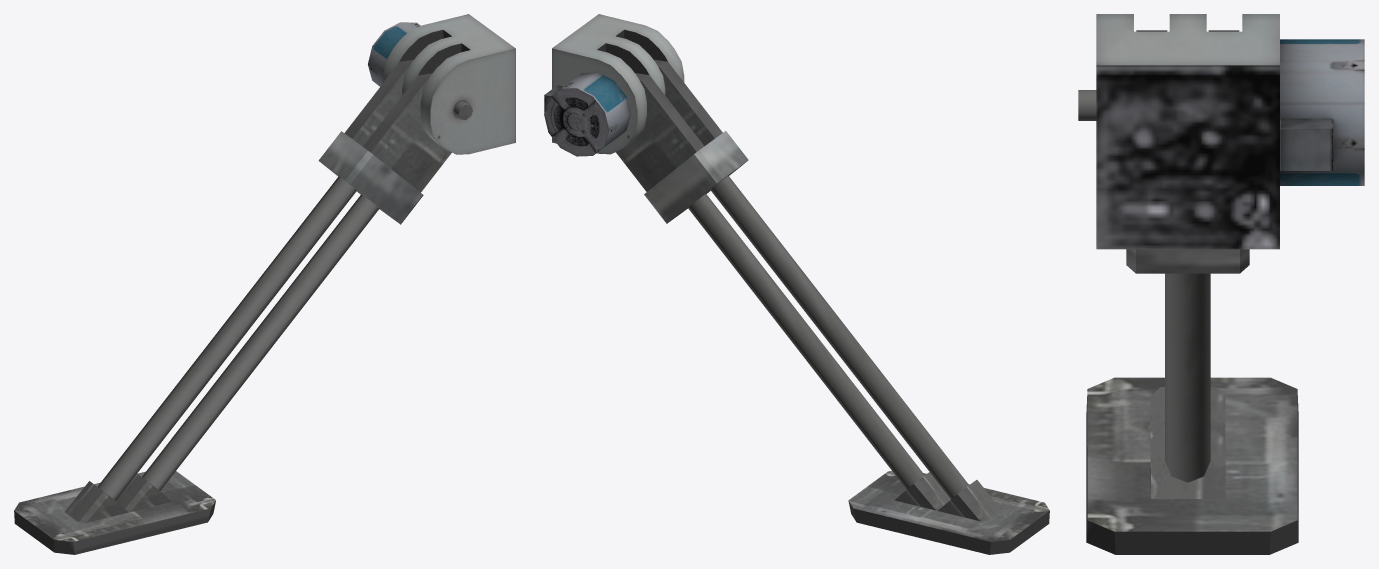
File: landingleg.DAE
3 views of the same model, side by side, from view 1: azimuth 30°, elevation 25°; view 2: azimuth 150°, elevation 25°; view 3: azimuth 270°, elevation 25° (orthographic). The views are drawn at different scales.
Parts seen in each view (by area): view 1: obj_leg-Pivot, obj_anchor-Pivot; view 2: obj_leg-Pivot, obj_anchor-Pivot; view 3: obj_anchor-Pivot, obj_leg-Pivot.
Part boxes in pixels (x1,y1,x2,y2): obj_leg-Pivot: (14, 59, 451, 554); obj_anchor-Pivot: (368, 14, 515, 154); obj_leg-Pivot: (616, 59, 1049, 554); obj_anchor-Pivot: (544, 14, 684, 156); obj_anchor-Pivot: (1078, 14, 1364, 249); obj_leg-Pivot: (1086, 30, 1298, 554).
Size of what is drawn, in the model's own units: 1.14 by 0.9437 by 0.3167.
